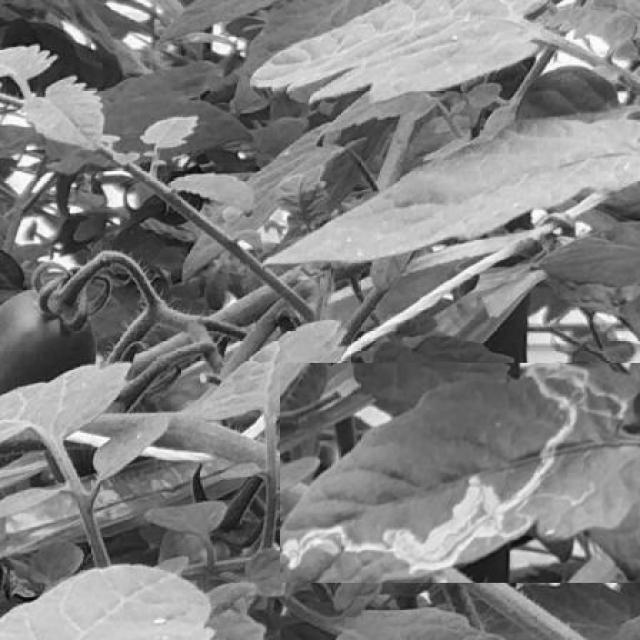Leaf Miner: (280, 364, 640, 584)
